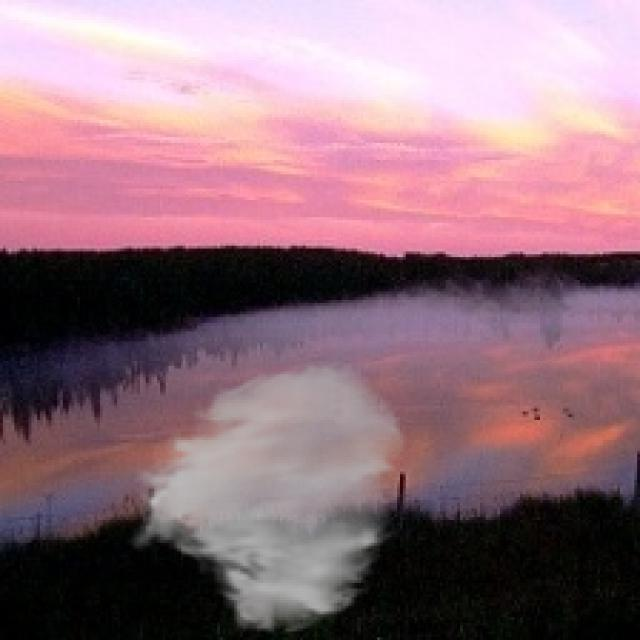smoke: (125, 360, 408, 637)
